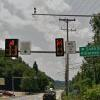Car: (39, 80, 61, 100)
